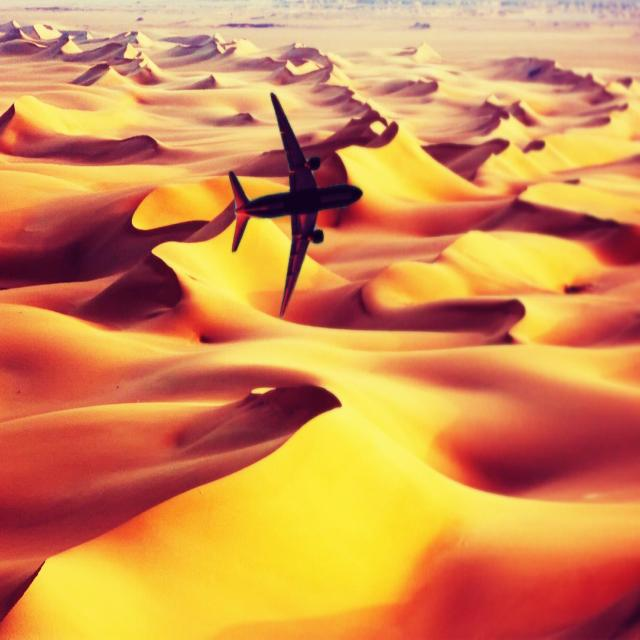airplane: (228, 90, 363, 319)
